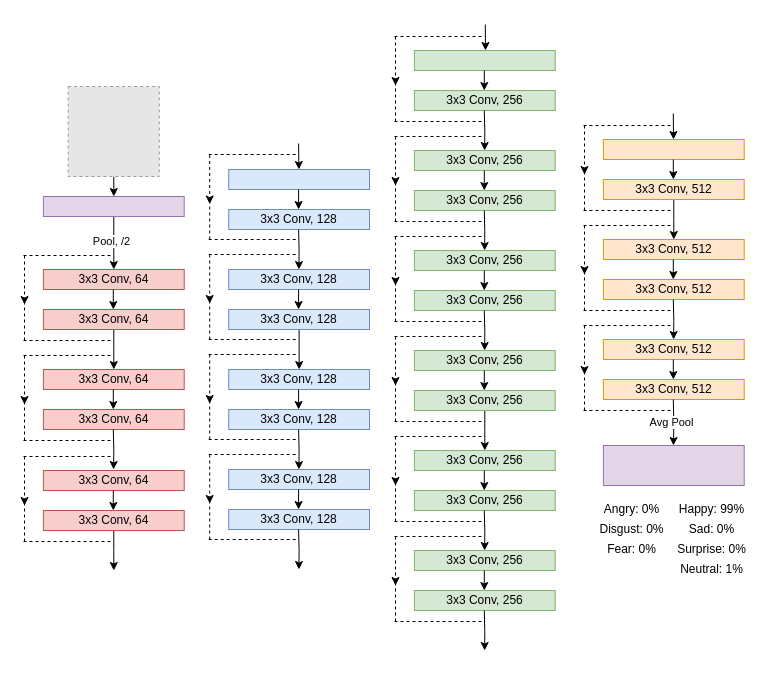
This 774x676 diagram has some shape labels left out. Grey dashed boxes stand in for pictures. The shapes that lost their labels are listed below. From the top down, each one's centre as x and y in pixels, then its label:
At (x=484, y=60): "3x3 Conv, 256, /2".
At (x=673, y=149): "3x3 Conv, 512, /2".
At (x=299, y=179): "3x3 Conv, 128, /2".
At (x=113, y=206): "7x7 Conv, 64, /2".
At (x=673, y=465): "7-Way Fully Connected, Softmax".
